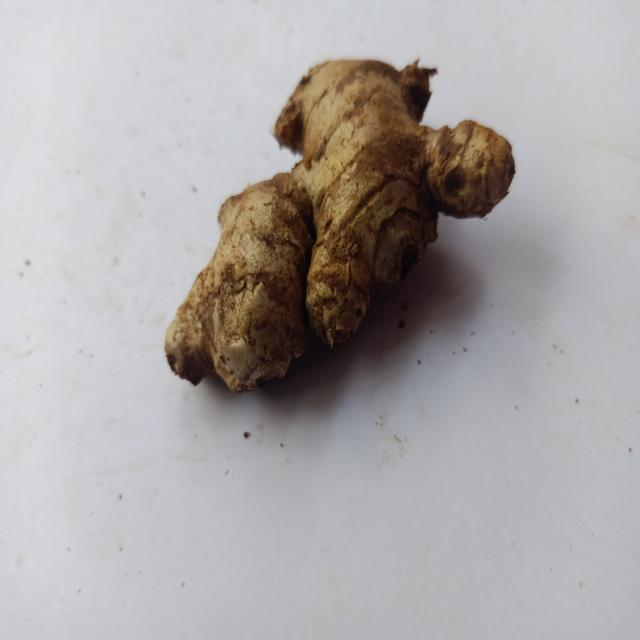Ginger: (165, 59, 515, 392)
